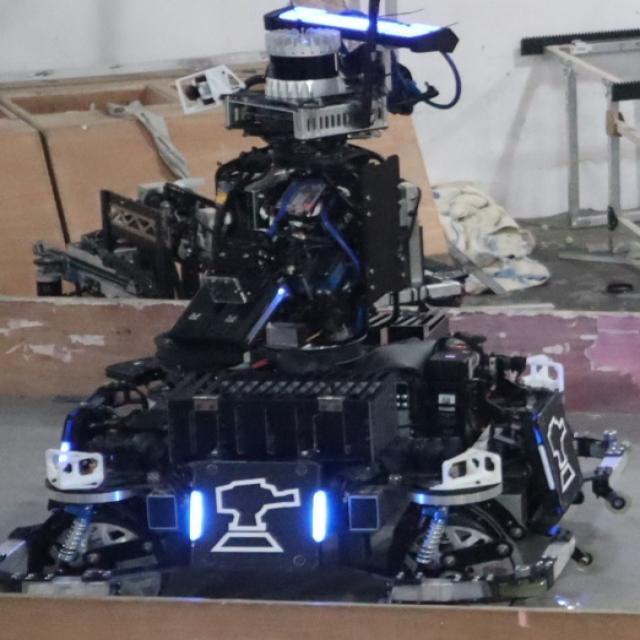Bs: (186, 470, 328, 562)
